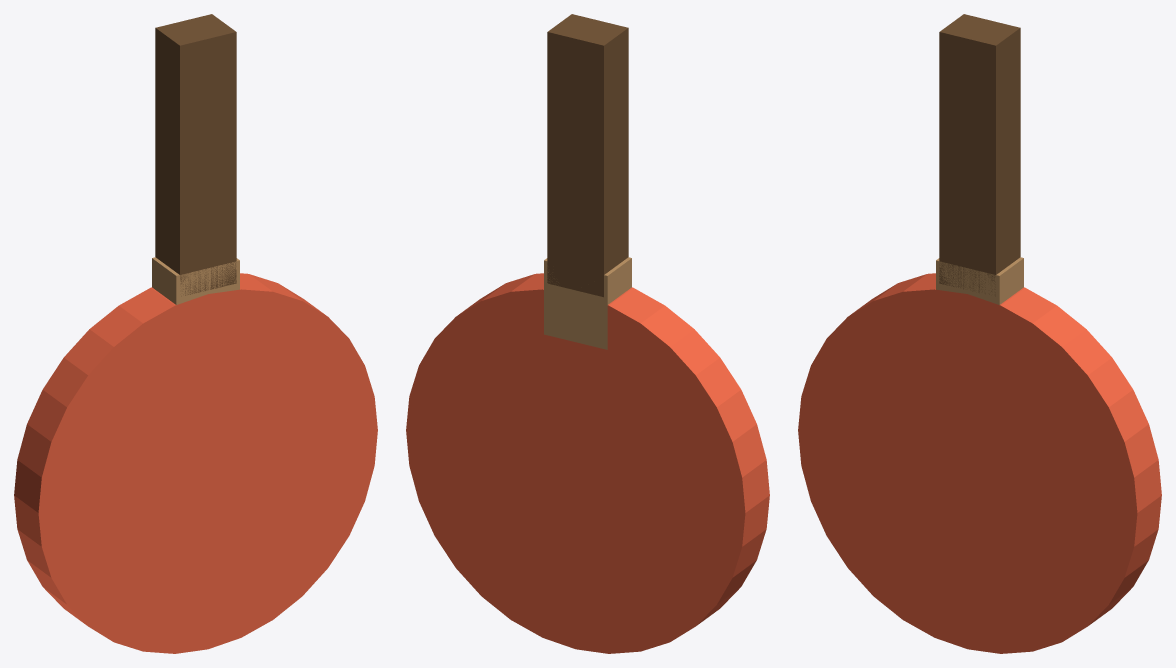
Rendered from paddle-home.glb.
3 views of the same model, side by side, from view 1: azimuth 30°, elevation 25°; view 2: azimuth 150°, elevation 25°; view 3: azimuth 330°, elevation 25° (orthographic).
Visible parts, largest first — view 1: Paddle Face, Paddle Handle, Paddle Neck; view 2: Paddle Face, Paddle Handle, Paddle Neck; view 3: Paddle Face, Paddle Handle, Paddle Neck.
Boxes of the visible parts, <box> form: Paddle Face: <box>14,273,377,653</box>; Paddle Handle: <box>155,14,236,296</box>; Paddle Neck: <box>152,257,239,304</box>; Paddle Face: <box>406,273,769,653</box>; Paddle Handle: <box>547,14,628,297</box>; Paddle Neck: <box>544,257,631,349</box>; Paddle Face: <box>798,273,1161,653</box>; Paddle Handle: <box>939,14,1020,296</box>; Paddle Neck: <box>936,257,1023,304</box>.
Bounding box in the file's own units: 0.96 × 1.65 × 0.12.
